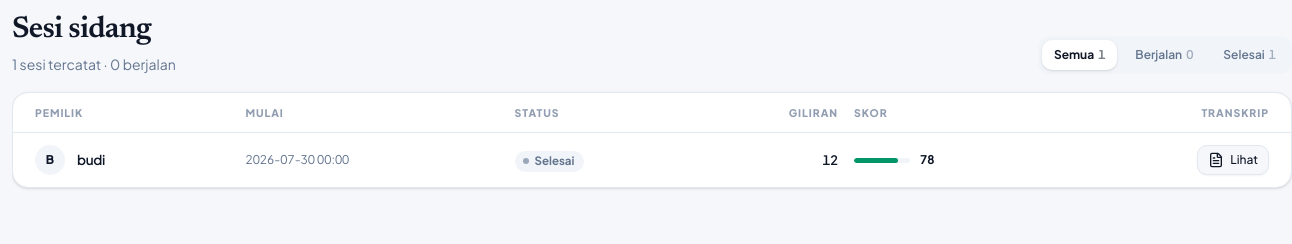
Test case: Sessions › surfaces an error when the transcript fetch fails, without opening a blank dialog
Click the button with aria-label "Lihat transkrip". click: (1233, 160)
box: [1197,145,1269,175]
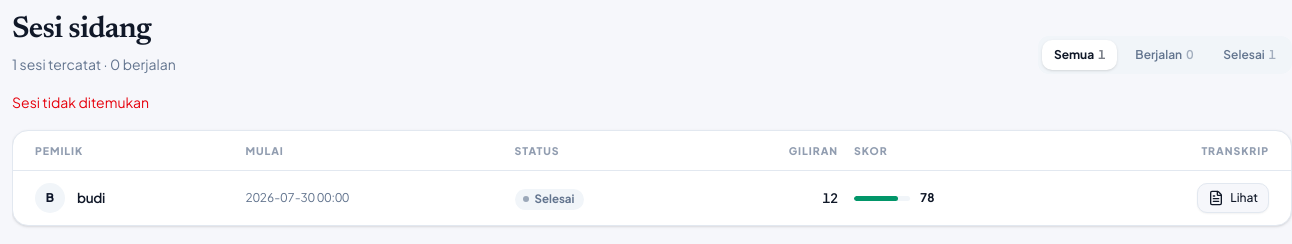
Expected: the message reads "Sesi tidak ditemukan", [12,92,149,110]
